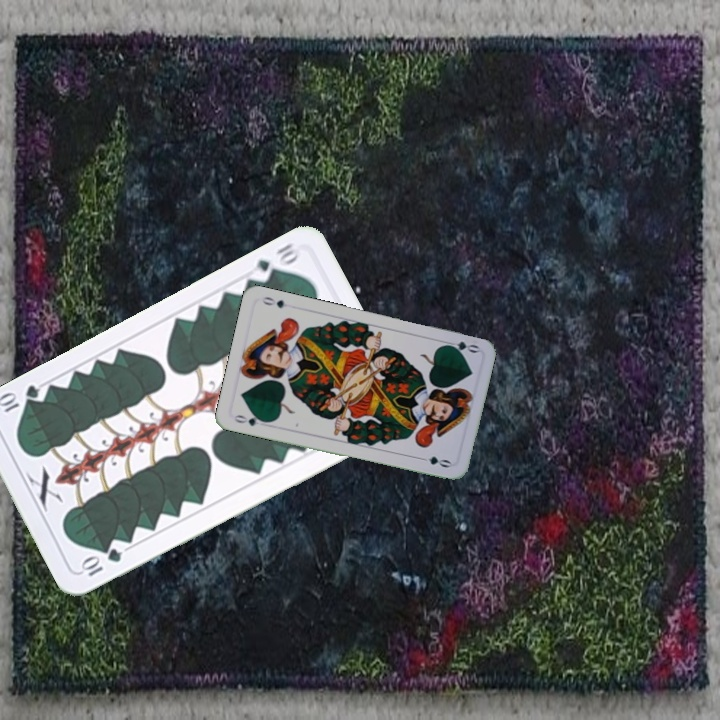G10: (246, 239, 304, 285), (77, 544, 125, 579)
GO: (440, 337, 481, 356), (230, 411, 270, 429)
